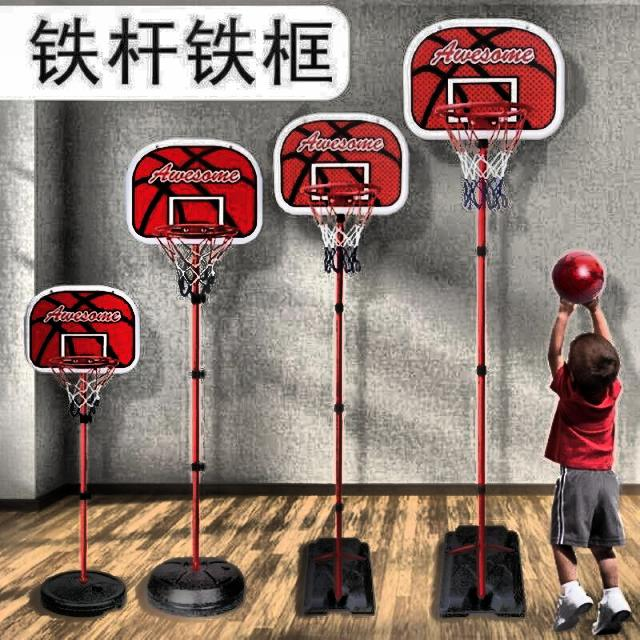board: (550, 252, 605, 305)
rim: (437, 102, 529, 208), (298, 185, 380, 274), (148, 223, 230, 299), (49, 356, 118, 419)
